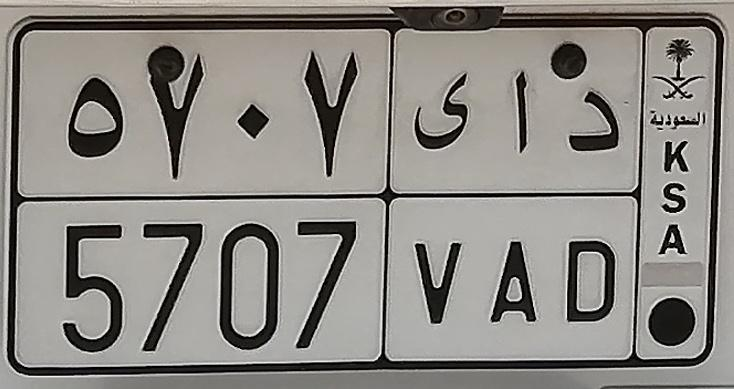0: (214, 97, 285, 353)
5: (56, 71, 128, 354)
7: (132, 51, 207, 355), (293, 49, 362, 353)
A: (488, 67, 540, 329)
D: (560, 86, 621, 325)
V: (410, 71, 476, 331)
